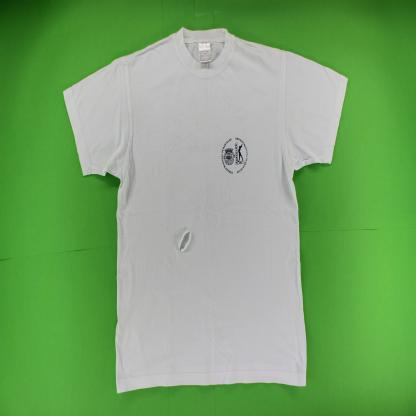hole: (178, 229, 192, 253)
